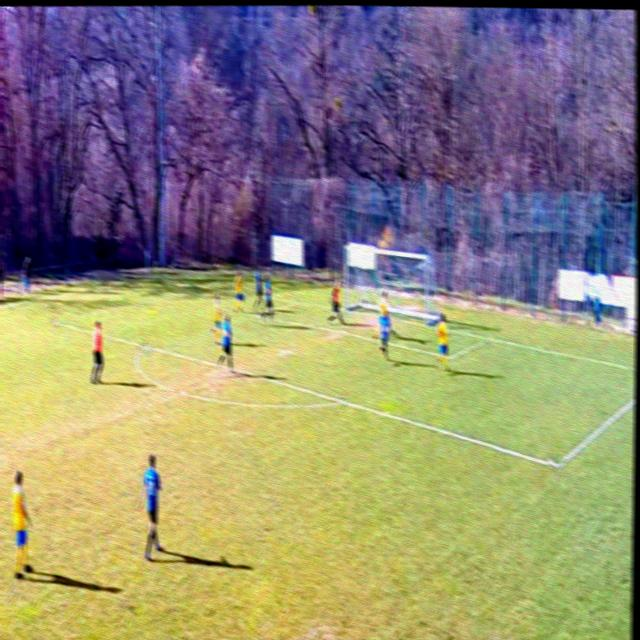bigarea_bottom_inner: (546, 448, 565, 484)
bigarea_top_inner: (49, 312, 64, 332)
bottom_arc_area_intersection: (331, 389, 348, 416)
smallarea_bottom_outter: (483, 328, 494, 349)
smallarea_top_outter: (291, 294, 302, 308)
top_arc_area_intersection: (139, 334, 150, 358)
